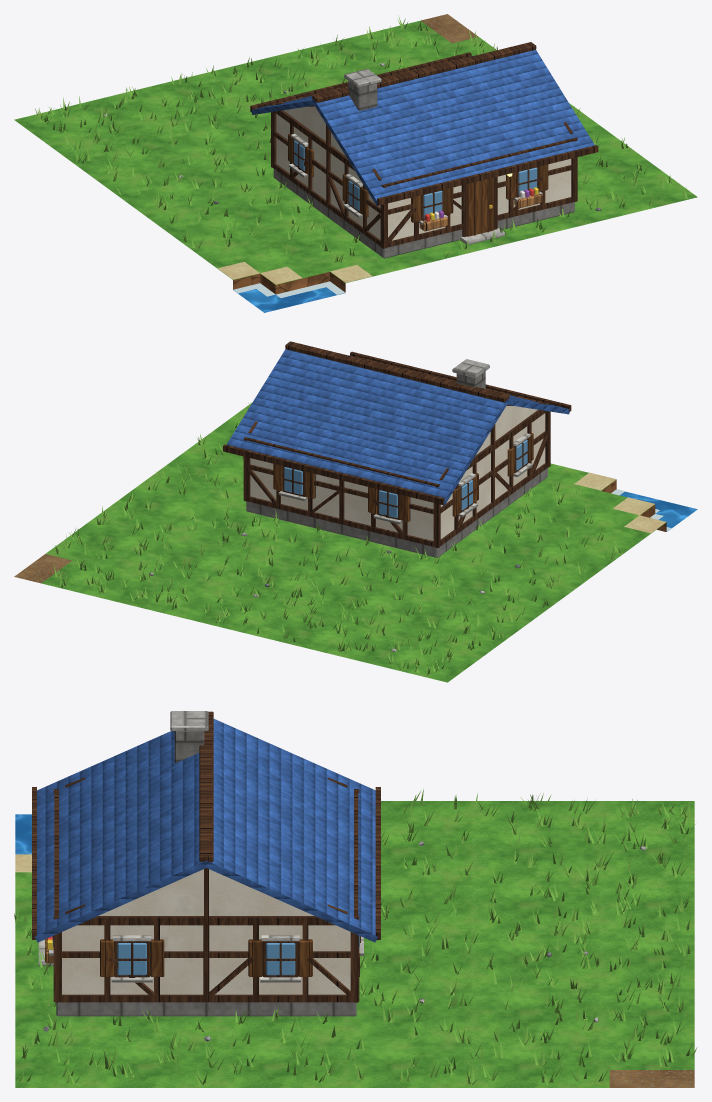
File: chunk_5_14.glb
3 renders of one model, top to bottom at view 1: azimuth 30°, elevation 25°; view 2: azimuth 150°, elevation 25°; view 3: azimuth 270°, elevation 25°, orthographic. The views are drawn at different scales.
Visible parts, largest first — view 1: chunk_5_14; view 2: chunk_5_14; view 3: chunk_5_14.
Boxes of the visible parts, x1,y1,x2,y2 form: chunk_5_14: (14, 14, 697, 312); chunk_5_14: (14, 341, 697, 682); chunk_5_14: (14, 711, 697, 1087).
Size of the model in its own units: 16 by 5.29 by 16.12.
25 materials, 15 textured.
